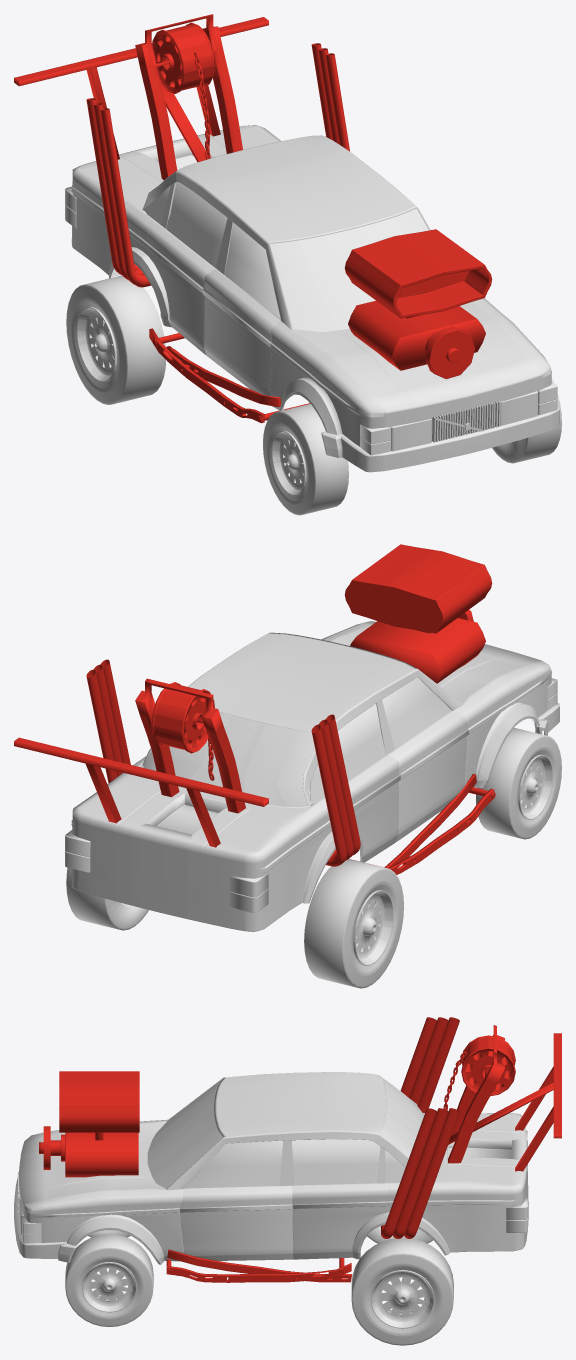
File: Car 1.fbx
The picture shows the model from 3 angles, top to bottom: view 1: azimuth 30°, elevation 25°; view 2: azimuth 150°, elevation 25°; view 3: azimuth 270°, elevation 25°; orthographic projection. The views are drawn at different scales.
Visible parts, largest first — view 1: Car_chassi.002, Wheel, SuperChargerTop, Wheel.001, Car_chassi.003, SuperChargerBottom, Pipes, Window, FrontBumper, ChainWheelHolder, SupportBearings, FrontLights (+3 smaller); view 2: Car_chassi.002, Wheel, SuperChargerTop, Car_chassi.004, Wheel.001, Pipes, Window, SuperChargerBottom, SupportBearings, ChainWheelHolder, ChainWheel, BearingsUnder (+1 smaller); view 3: Car_chassi.002, Wheel, Window, Pipes, Wheel.001, SuperChargerTop, Car_chassi.003, SuperChargerBottom, BearingsUnder, SupportBearings, ChainWheelHolder, ChainWheel (+5 smaller).
Part boxes in pixels (x1,y1,x2,y2): Car_chassi.002: [71, 125, 551, 446]; Wheel: [66, 275, 165, 404]; SuperChargerTop: [344, 229, 492, 318]; Wheel.001: [263, 378, 561, 515]; Car_chassi.003: [270, 208, 428, 331]; SuperChargerBottom: [348, 300, 485, 379]; Pipes: [86, 43, 349, 287]; Window: [143, 182, 280, 318]; FrontBumper: [321, 405, 559, 472]; ChainWheelHolder: [135, 14, 242, 179]; SupportBearings: [14, 17, 268, 162]; FrontLights: [360, 382, 557, 455]; Car_chassi.002: [71, 621, 551, 931]; Wheel: [66, 859, 403, 988]; SuperChargerTop: [344, 544, 492, 633]; Car_chassi.004: [143, 712, 314, 807]; Wheel.001: [476, 727, 561, 839]; Pipes: [86, 659, 360, 866]; Window: [310, 677, 451, 805]; SuperChargerBottom: [350, 609, 485, 683]; SupportBearings: [14, 737, 268, 847]; ChainWheelHolder: [135, 678, 245, 813]; ChainWheel: [151, 682, 214, 753]; BearingsUnder: [351, 774, 495, 874]; Car_chassi.002: [18, 1071, 528, 1264]; Wheel: [351, 1226, 453, 1345]; Window: [185, 1139, 405, 1188]; Pipes: [381, 1017, 459, 1238]; Wheel.001: [65, 1230, 153, 1326]; SuperChargerTop: [59, 1071, 139, 1140]; Car_chassi.003: [147, 1081, 222, 1188]; SuperChargerBottom: [39, 1126, 138, 1177]; BearingsUnder: [166, 1249, 351, 1282]; SupportBearings: [448, 1033, 561, 1171]; ChainWheelHolder: [448, 1025, 504, 1163]; ChainWheel: [461, 1035, 515, 1096].
Size of the model in its own units: 254 by 264 by 522.
